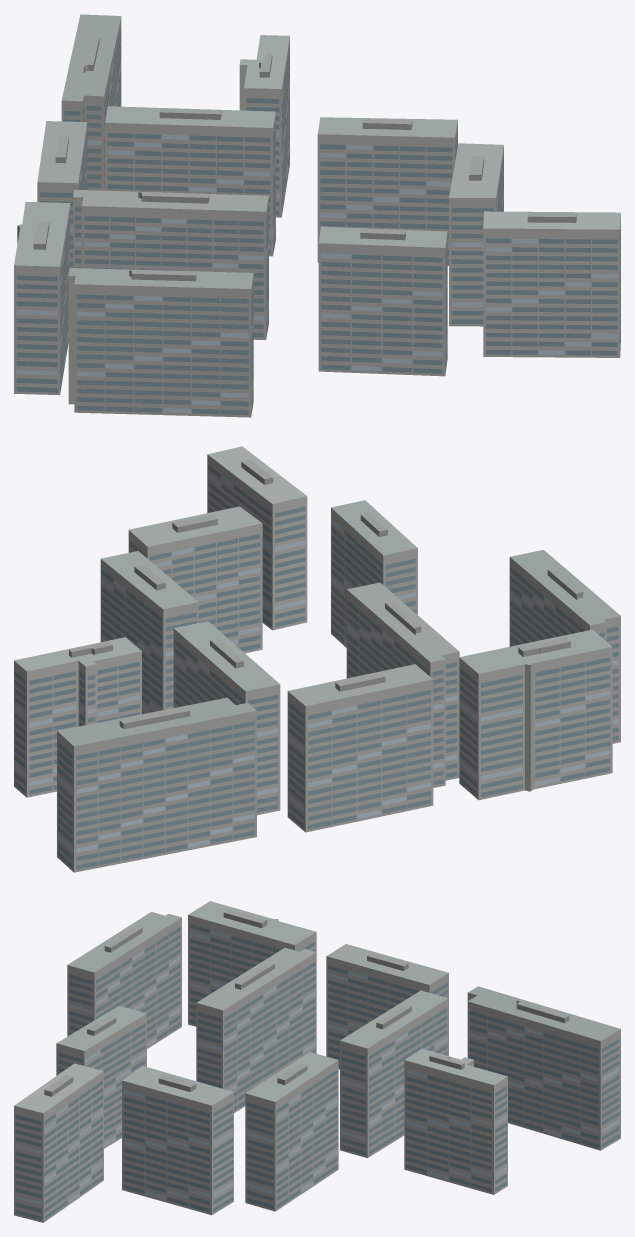
The model's file is apt-a15780704.glb.
3 renders of one model, top to bottom at view 1: azimuth 30°, elevation 25°; view 2: azimuth 150°, elevation 25°; view 3: azimuth 270°, elevation 25°, orthographic. The views are drawn at different scales.
Visible parts, largest first — view 1: apt-a15780704; view 2: apt-a15780704; view 3: apt-a15780704.
Part boxes in pixels (left/top/right/bottom): apt-a15780704: left=14, top=14, right=620, bottom=417; apt-a15780704: left=14, top=446, right=620, bottom=872; apt-a15780704: left=14, top=901, right=620, bottom=1222.
Bounding box in the file's own units: 190 × 47.81 × 229.
